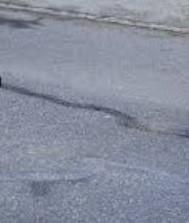crack: (1, 76, 189, 139)
